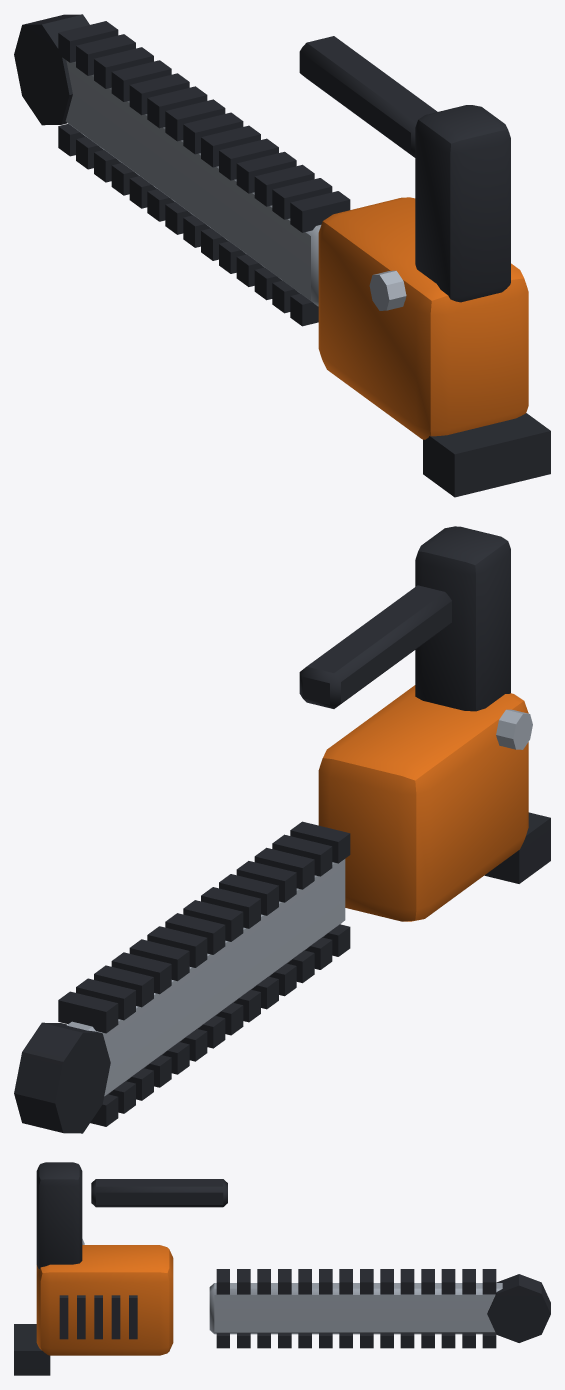
File: item_chainsaw.glb
The picture shows the model from 3 angles, top to bottom: view 1: azimuth 30°, elevation 25°; view 2: azimuth 150°, elevation 25°; view 3: azimuth 270°, elevation 25°; orthographic projection. The views are drawn at different scales.
Visible parts, largest first — view 1: item_chainsaw, item_chainsaw_detail; view 2: item_chainsaw, item_chainsaw_detail; view 3: item_chainsaw, item_chainsaw_detail.
Part boxes in pixels (x1,y1,x2,y2): item_chainsaw: [14, 14, 550, 497]; item_chainsaw_detail: [369, 270, 406, 310]; item_chainsaw: [14, 526, 550, 1133]; item_chainsaw_detail: [496, 709, 532, 749]; item_chainsaw: [14, 1162, 550, 1375]; item_chainsaw_detail: [59, 1239, 137, 1339].
Size of the model in its own units: 0.2 by 0.47 by 1.18.
